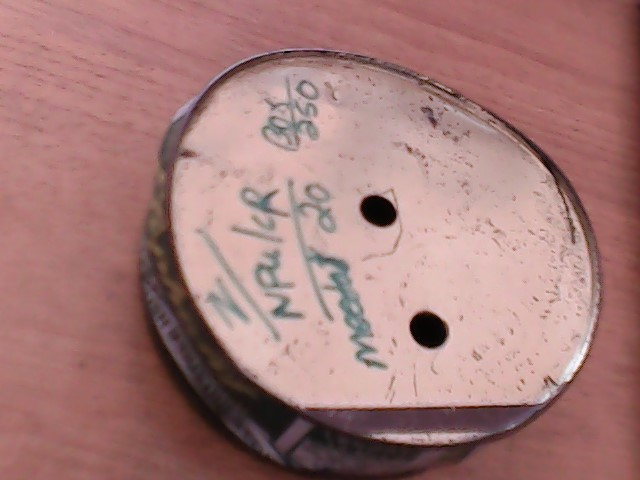Metal: (122, 43, 640, 480)
